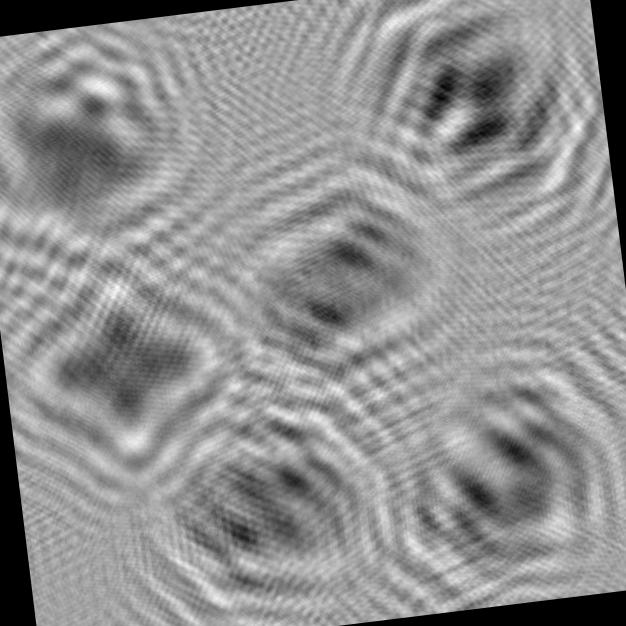K: (0, 10, 238, 281)
M: (361, 331, 626, 618)
N: (129, 352, 422, 626)
W: (299, 0, 616, 250)
X: (0, 228, 286, 518)
Z: (194, 149, 496, 417)
